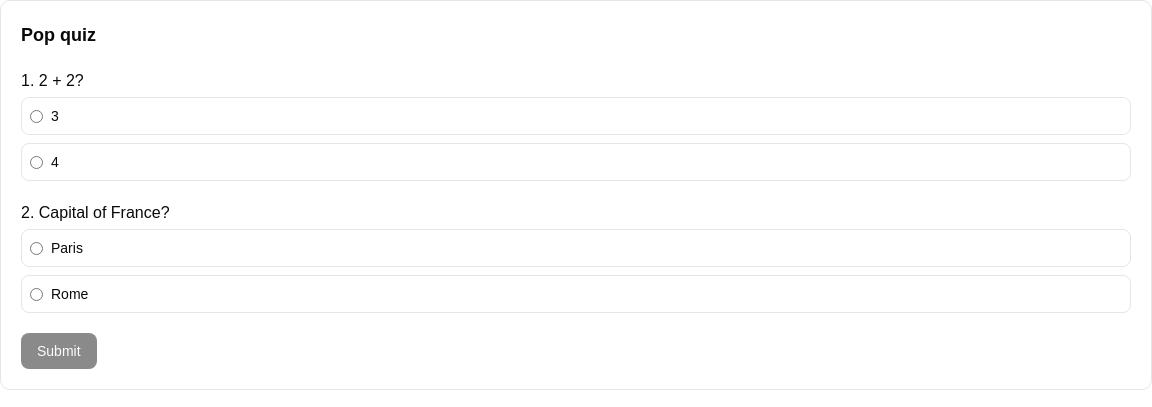
QuizBlockRender › is interactive: answering and submitting shows a score
Expected: the button "Submit" is disabled, [21,333,97,369]
Click the radio button labelled "4" at [36, 162], box [30,156,43,168]
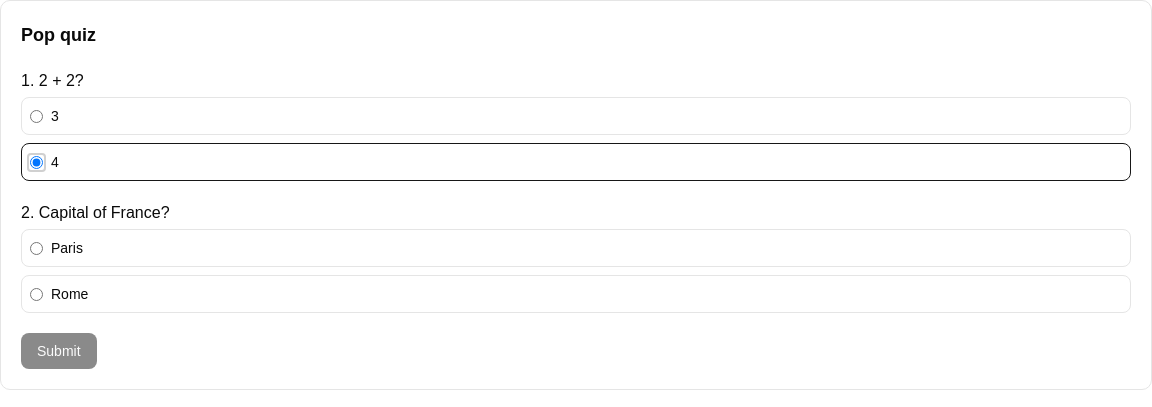
Click the radio button labelled "Paris" at [36, 248], box [30,242,43,254]
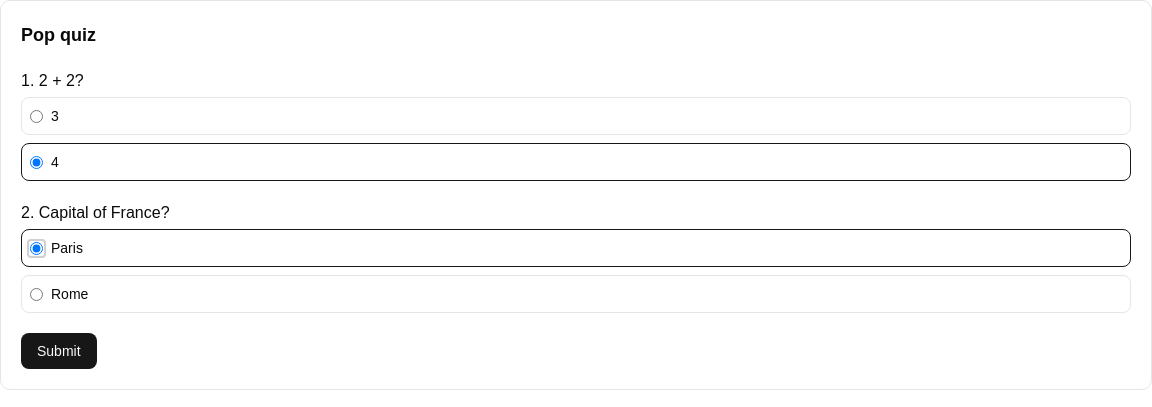
Click the button "Submit" at [59, 351], box [21,333,97,369]
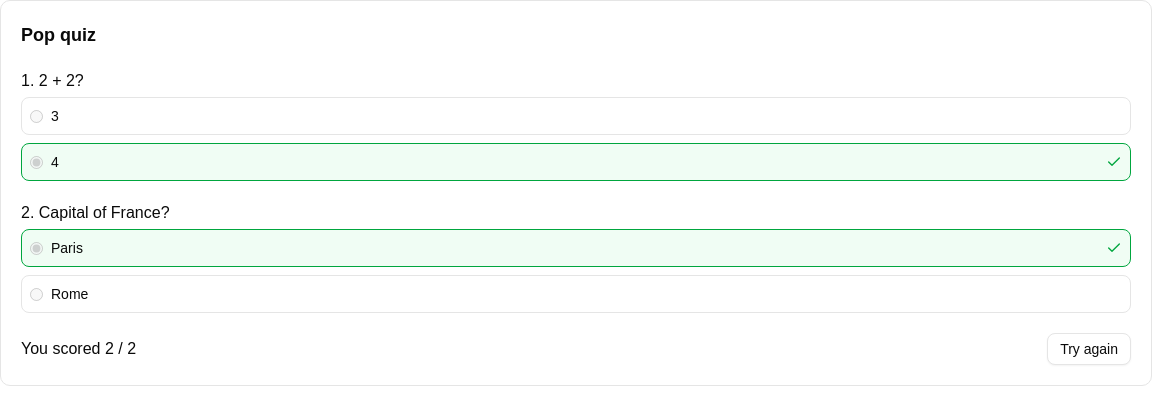
Expected: the message shows "2 / 2", [21,337,136,361]
